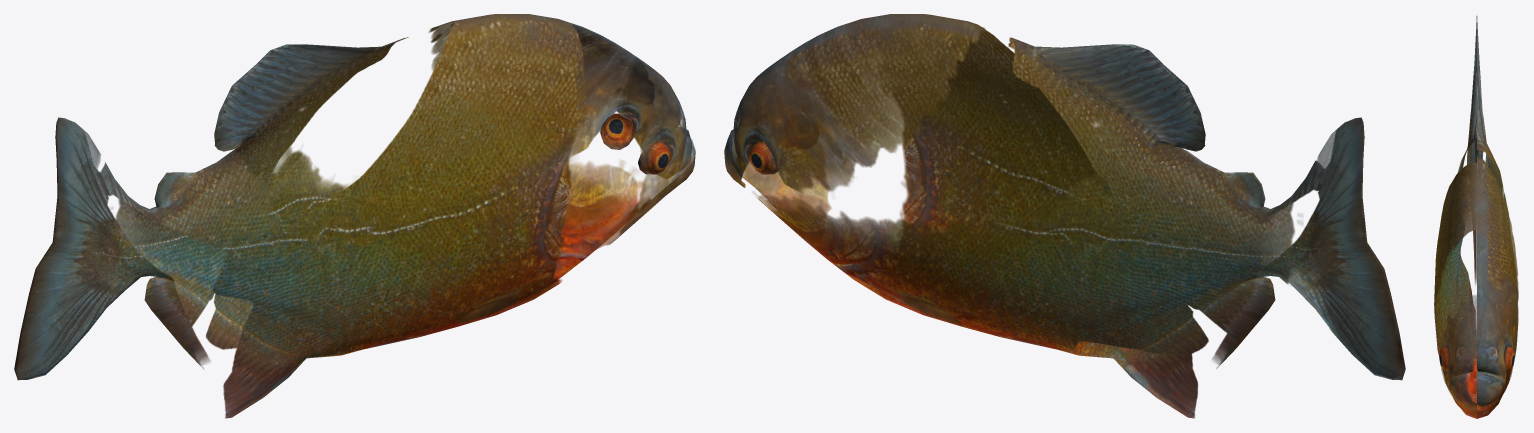
The model's file is animal_fish_piranha.glb.
The picture shows the model from 3 angles, left to right: view 1: azimuth 30°, elevation 25°; view 2: azimuth 150°, elevation 25°; view 3: azimuth 270°, elevation 25°; orthographic projection. The views are drawn at different scales.
Visible parts, largest first — view 1: Piranha_body, Piranha_eye.001, Piranha_fin; view 2: Piranha_body, Piranha_eye.001, Piranha_fin.001; view 3: Piranha_body, Piranha_eye.001.
Part boxes in pixels (<box>): Piranha_body: <box>14,14,695,418</box>; Piranha_eye.001: <box>600,113,671,174</box>; Piranha_fin: <box>456,289,524,323</box>; Piranha_body: <box>724,14,1405,418</box>; Piranha_eye.001: <box>748,136,817,174</box>; Piranha_fin.001: <box>894,289,961,323</box>; Piranha_body: <box>1434,16,1518,418</box>; Piranha_eye.001: <box>1439,345,1514,372</box>.
Bounding box in the file's own units: 0.3198 × 0.1622 × 0.0457.
Materials: 1 (1 with a texture image).
